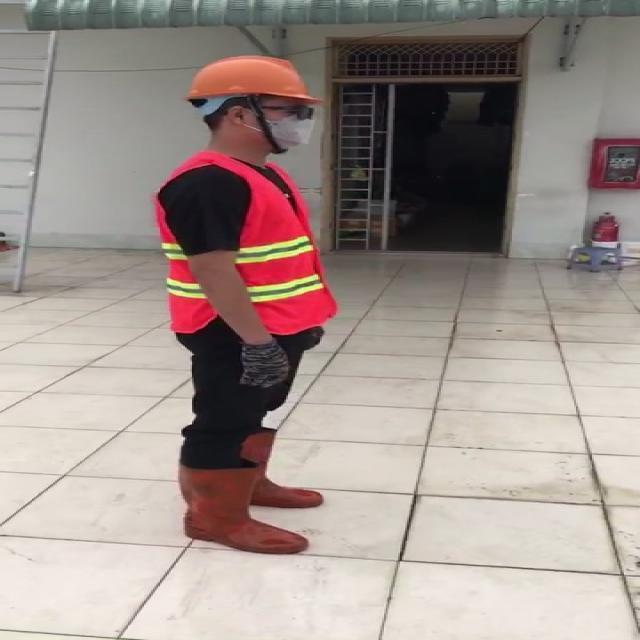gloves: (232, 333, 300, 398)
helmet: (180, 50, 334, 119)
safety_vest: (164, 150, 332, 338)
